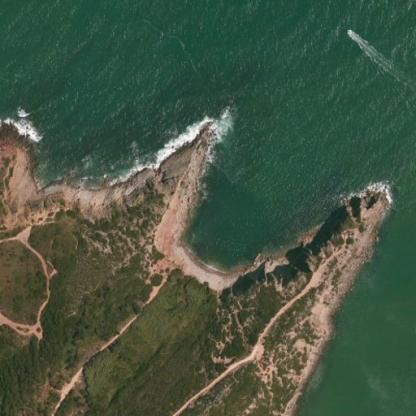ship: (339, 22, 361, 43)
